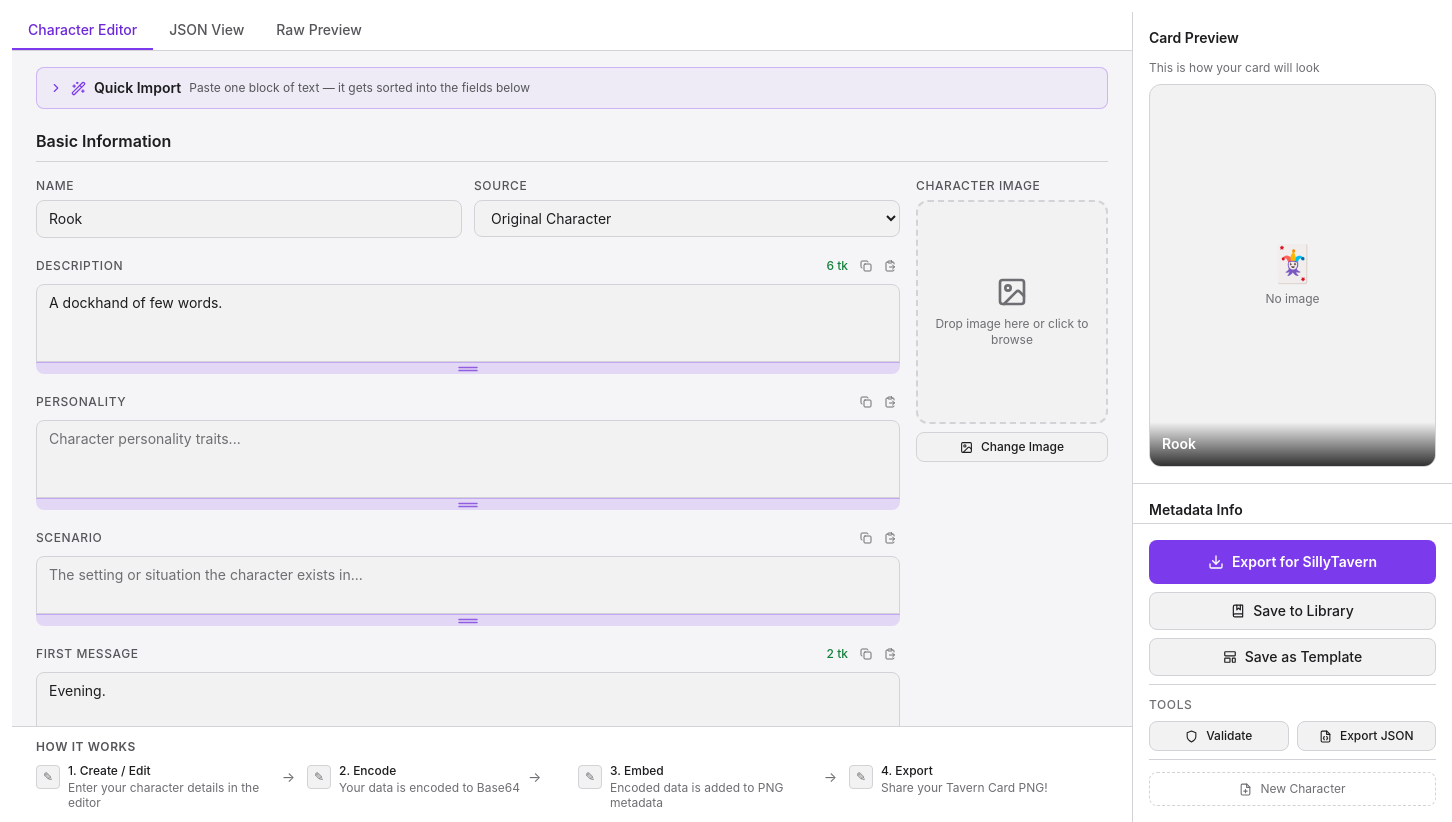
Test: CreateCard › says why a save failed instead of a bare failure
Click the button "Save to Library" at point(1292, 611), box [1149, 592, 1436, 630]
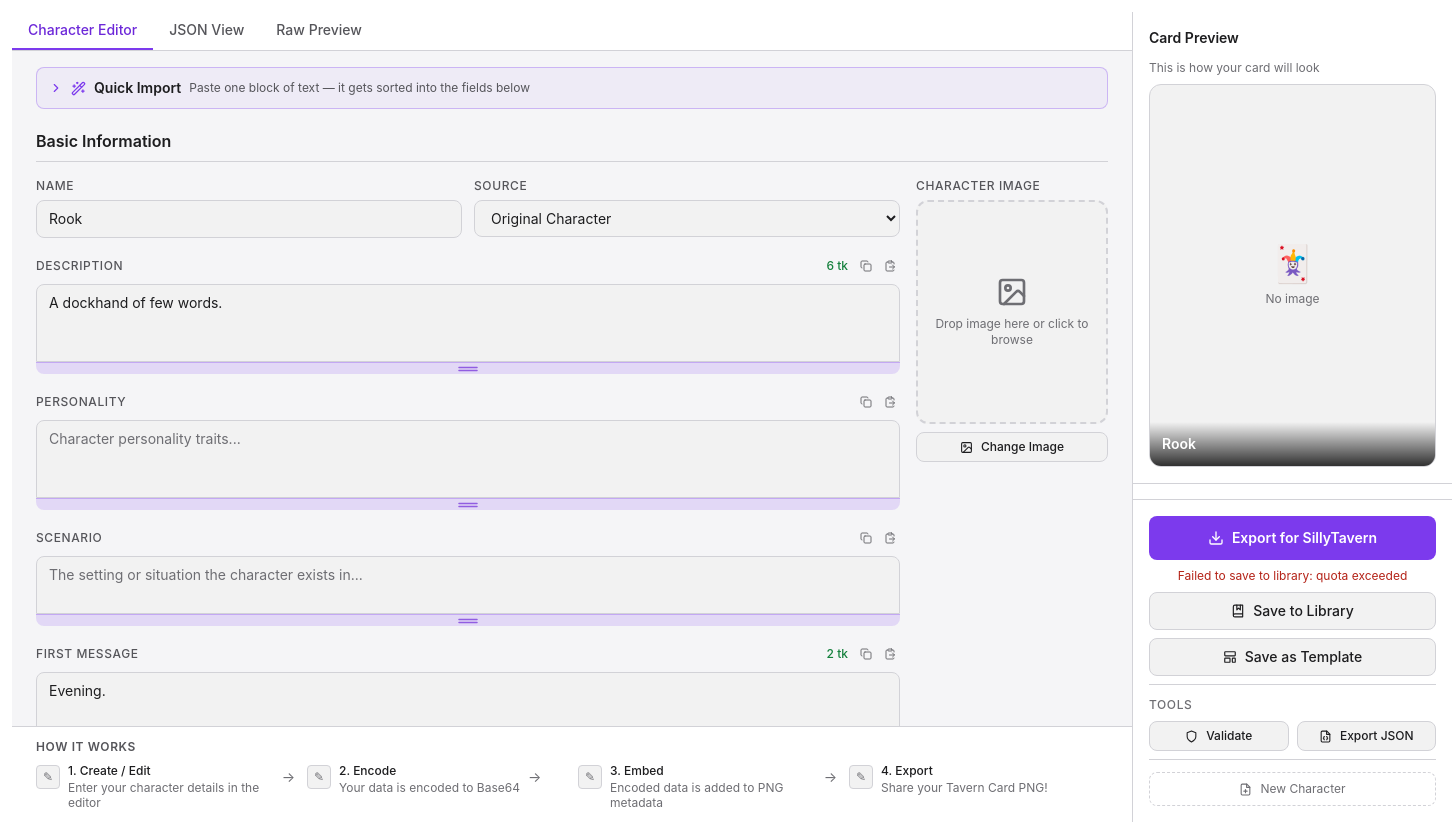
Expected: the text "Failed to save to library: quota exceeded" is shown, [1178, 568, 1407, 583]
